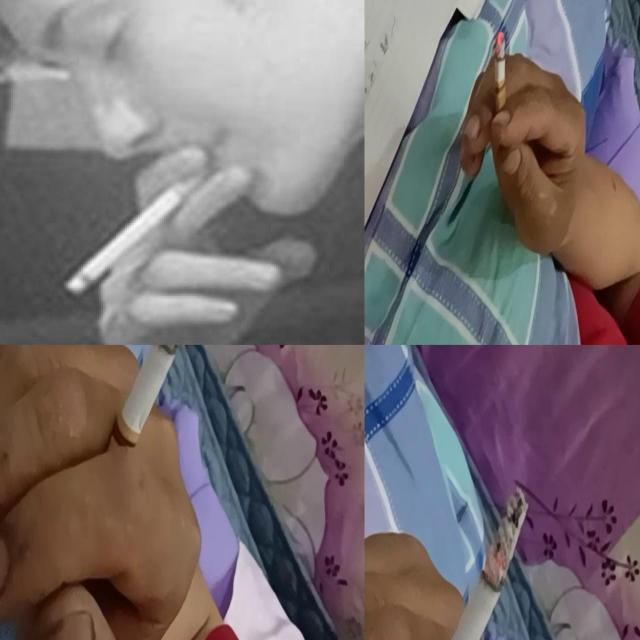cigarette: (64, 163, 214, 297), (99, 344, 204, 500), (424, 487, 530, 639), (492, 30, 508, 131)
